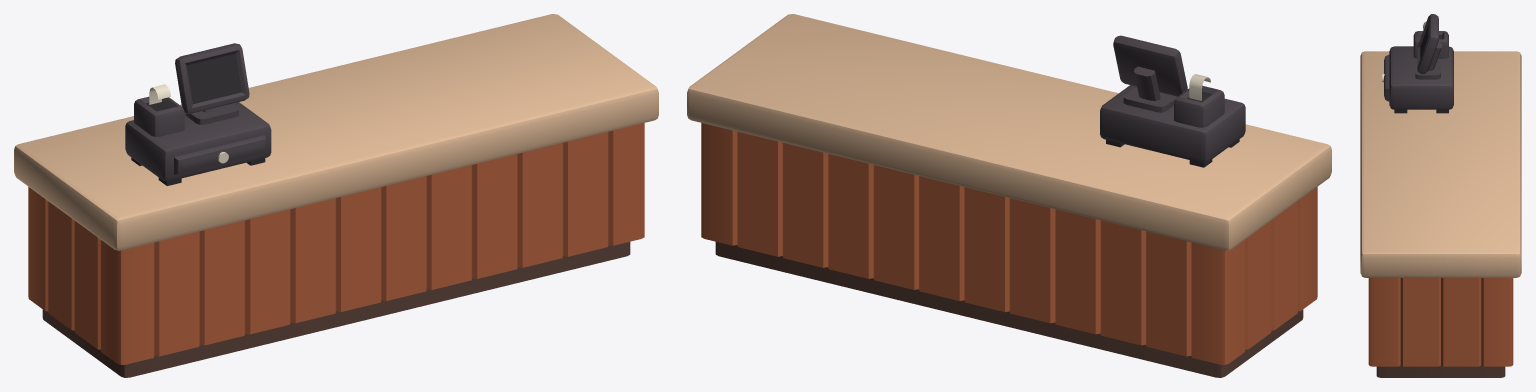
File: Counter.gltf
The picture shows the model from 3 angles, left to right: view 1: azimuth 30°, elevation 25°; view 2: azimuth 150°, elevation 25°; view 3: azimuth 270°, elevation 25°; orthographic projection. The views are drawn at different scales.
Parts seen in each view (by area): view 1: Counter_3x1, Register; view 2: Counter_3x1, Register; view 3: Counter_3x1, Register.
Boxes of the visible parts, x1,y1,x2,y2 form: Counter_3x1: (14,14,658,377); Register: (125,43,271,185); Counter_3x1: (687,14,1331,377); Register: (1100,35,1245,167); Counter_3x1: (1360,51,1521,377); Register: (1382,14,1453,113).
Size of the model in its own units: 6 by 2.86 by 2.
